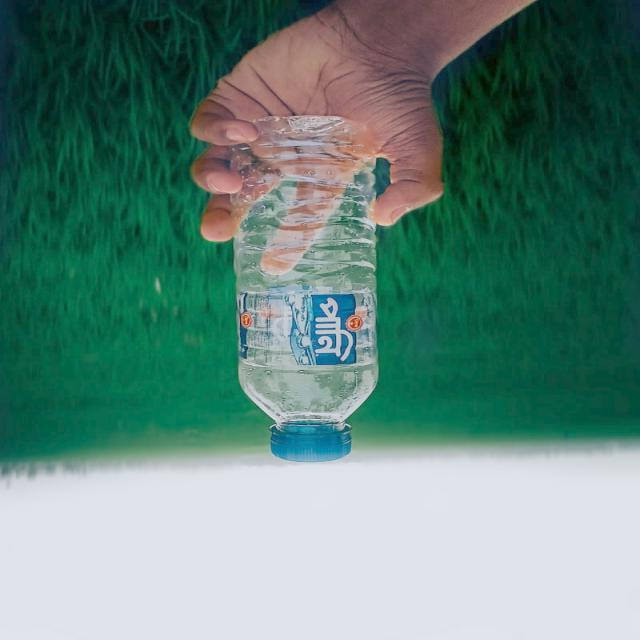cap: (264, 422, 358, 463)
label: (238, 292, 378, 371)
not-crumbled: (225, 110, 384, 467)
